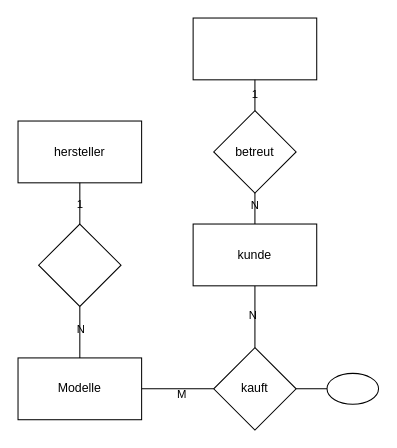
This 397x448 diagram has some shape labels left out. The shapes that lost their labels are listed below. From the top down, each one's centre as x and y in pixels, then its label:
At [254,48]: "betreuer".
At [79,264]: "stellt her".
At [352,388]: "kauf id".
